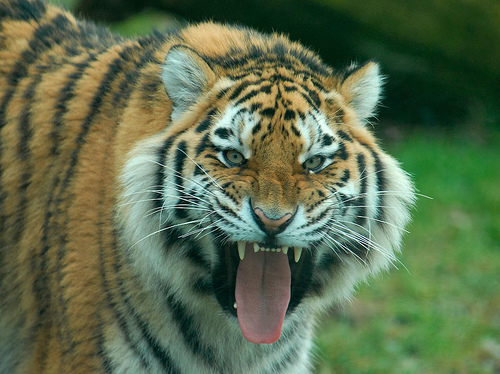Tigre: (114, 18, 415, 374)
